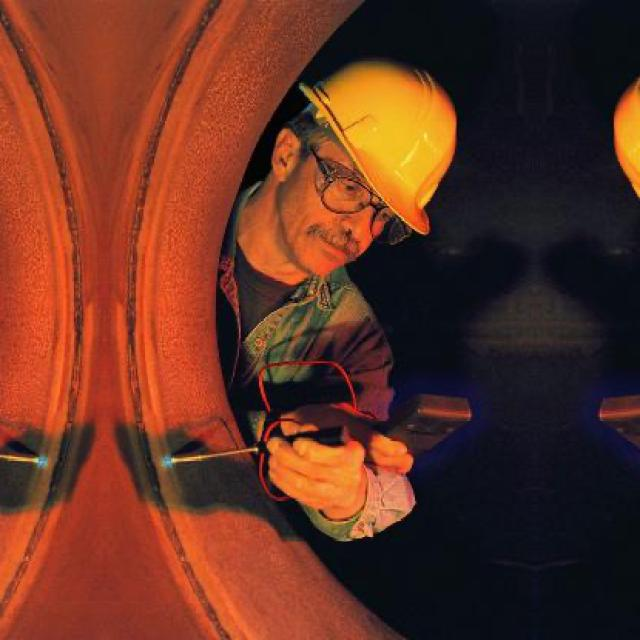con casco: (209, 60, 493, 309)
